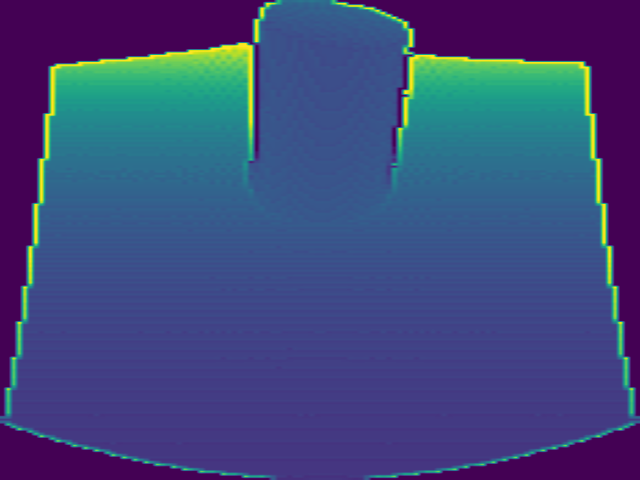cylinder: (244, 1, 412, 221)
